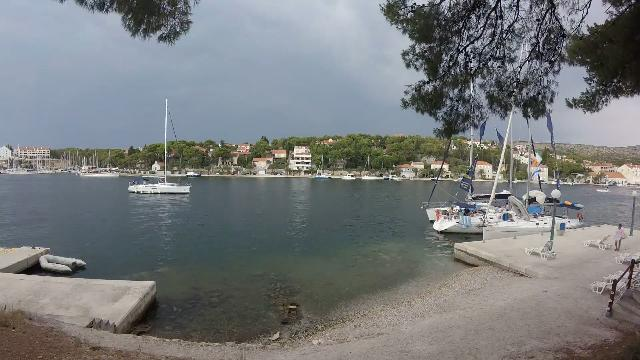Sailboat: (122, 176, 198, 200)
